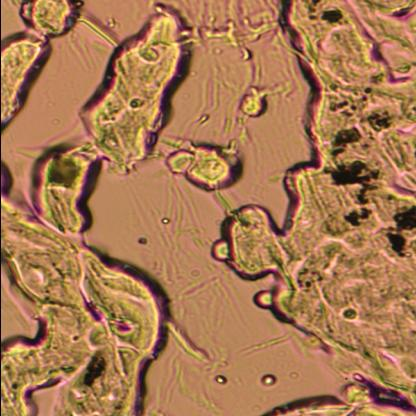Normal: (211, 0, 416, 416), (0, 0, 161, 416)
